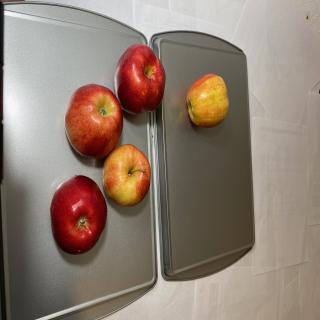Apple: (50, 174, 107, 255), (64, 83, 123, 159), (114, 44, 166, 115), (102, 144, 151, 206), (186, 73, 229, 128)
